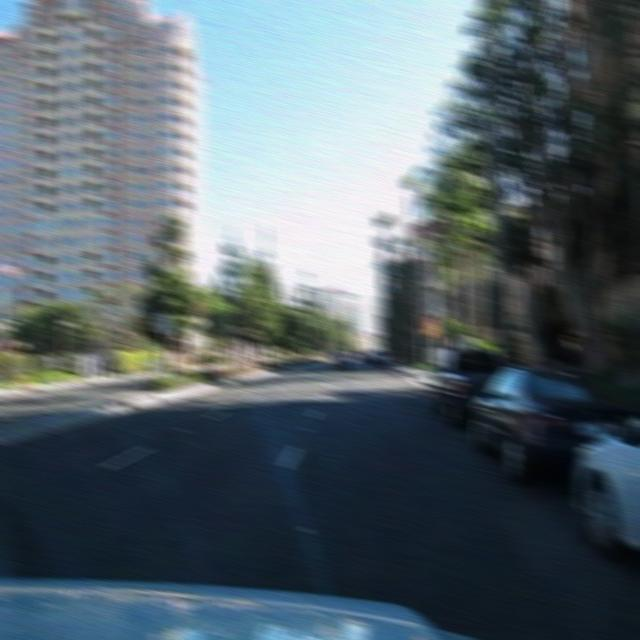speedLimit35: (154, 312, 172, 335)
